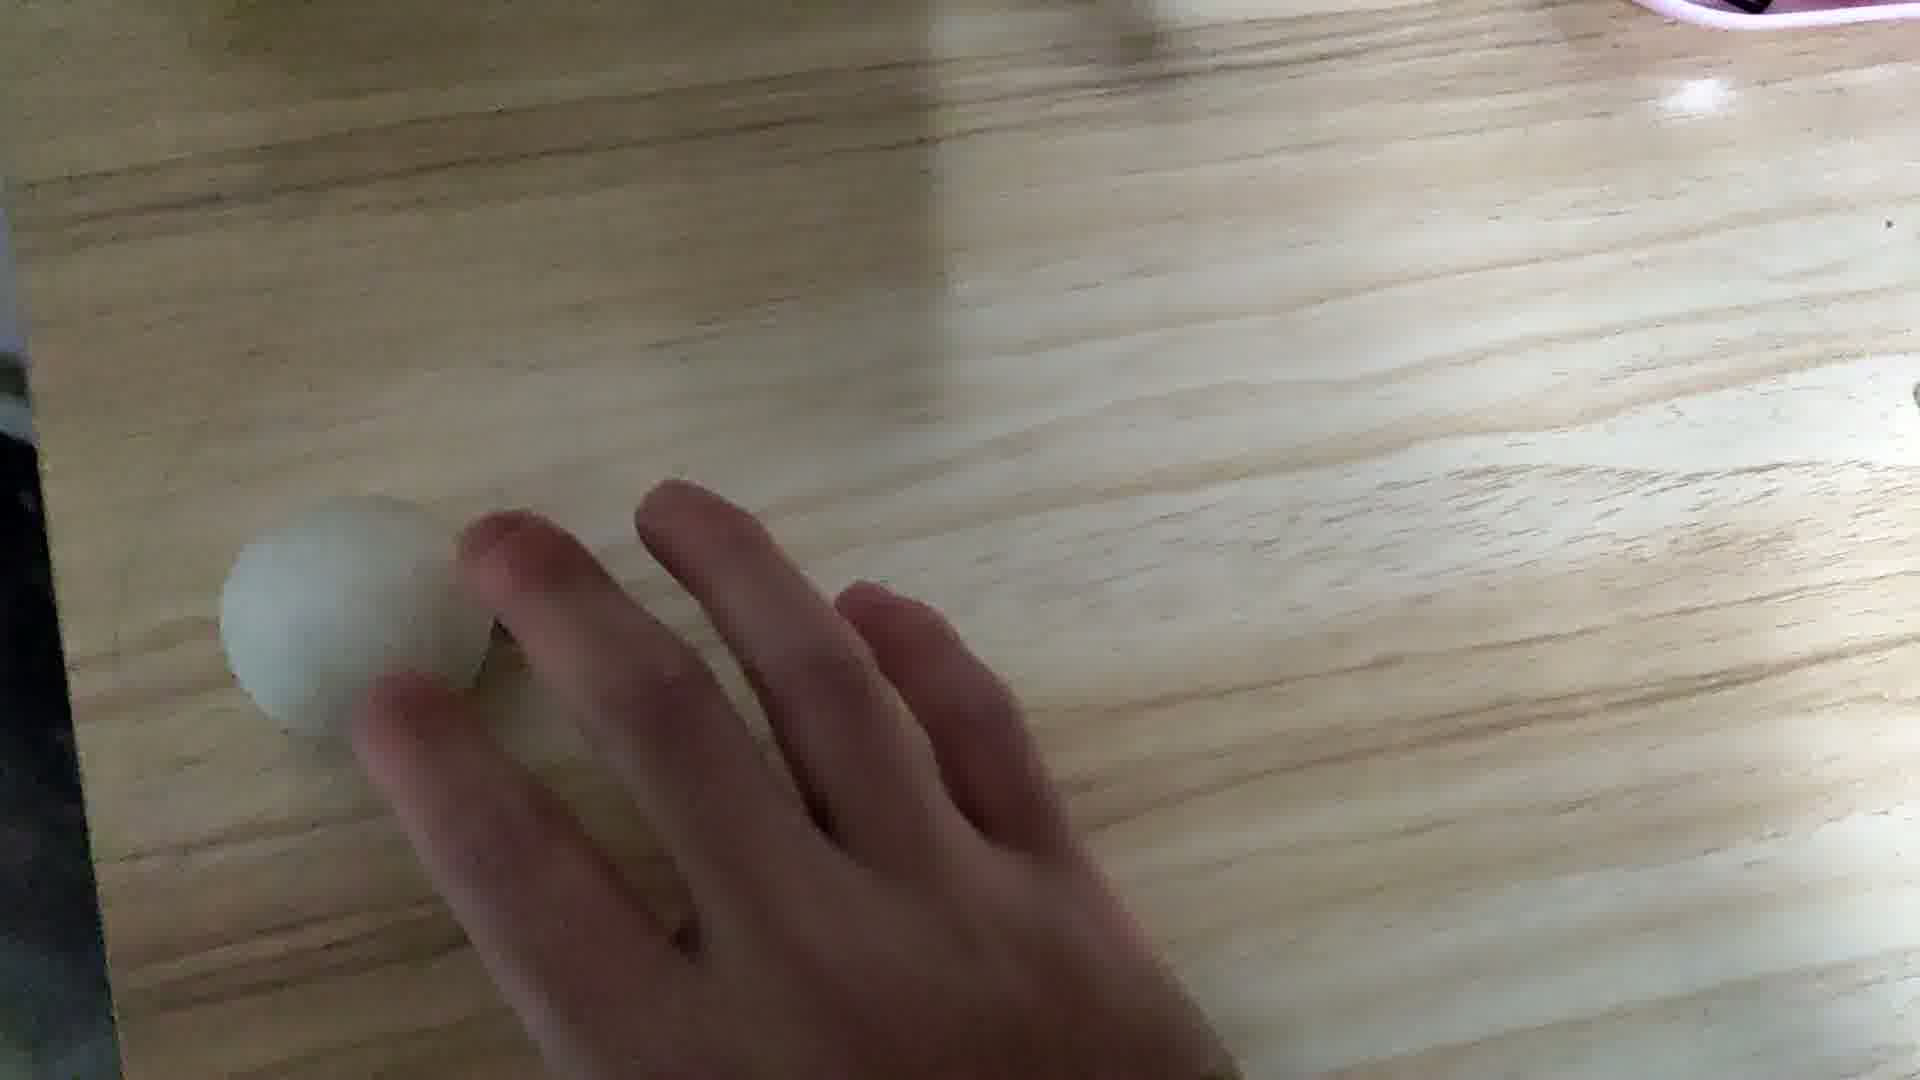Ball: (218, 492, 496, 732)
